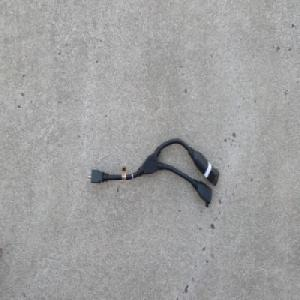Wire: (84, 136, 221, 209)
